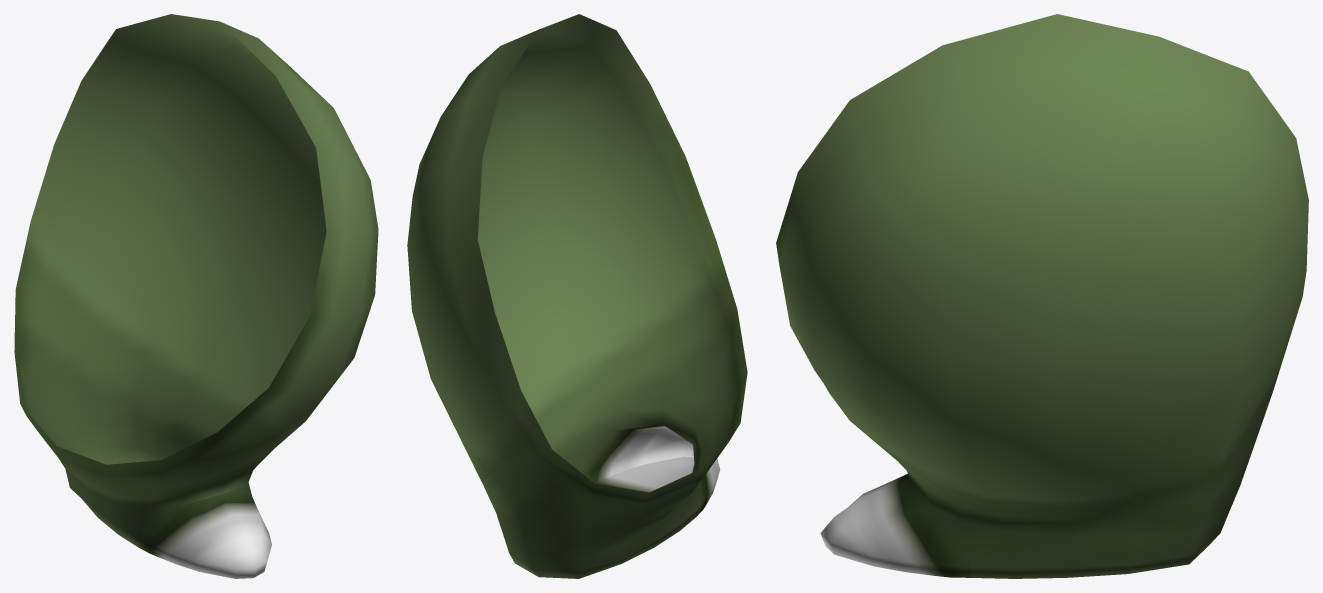
File: piernaIzq.obj
3 views of the same model, side by side, from view 1: azimuth 30°, elevation 25°; view 2: azimuth 150°, elevation 25°; view 3: azimuth 270°, elevation 25° (orthographic). The views are drawn at different scales.
Visible parts, largest first — view 1: Cubone; view 2: Cubone; view 3: Cubone.
Part boxes in pixels (x1,y1,x2,y2): Cubone: [14, 14, 378, 578]; Cubone: [407, 14, 747, 578]; Cubone: [776, 14, 1308, 578].
Size of the model in its own units: 192 by 328 by 279.
Materials: 1 (1 with a texture image).
